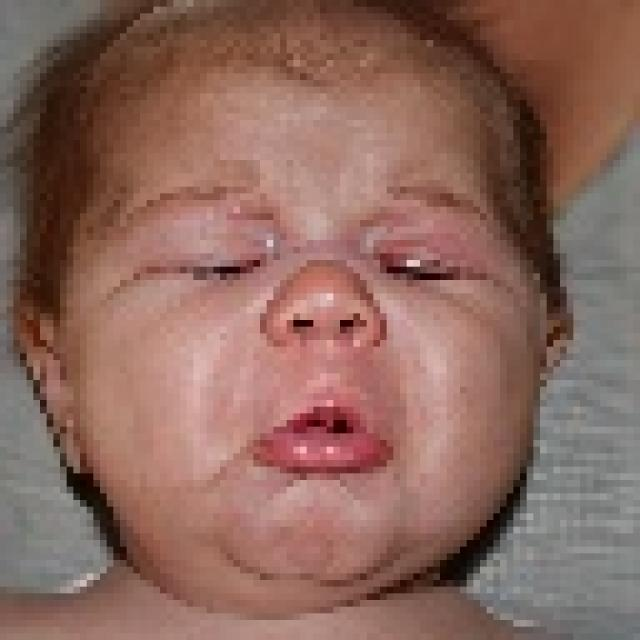sad: (69, 41, 546, 601)
